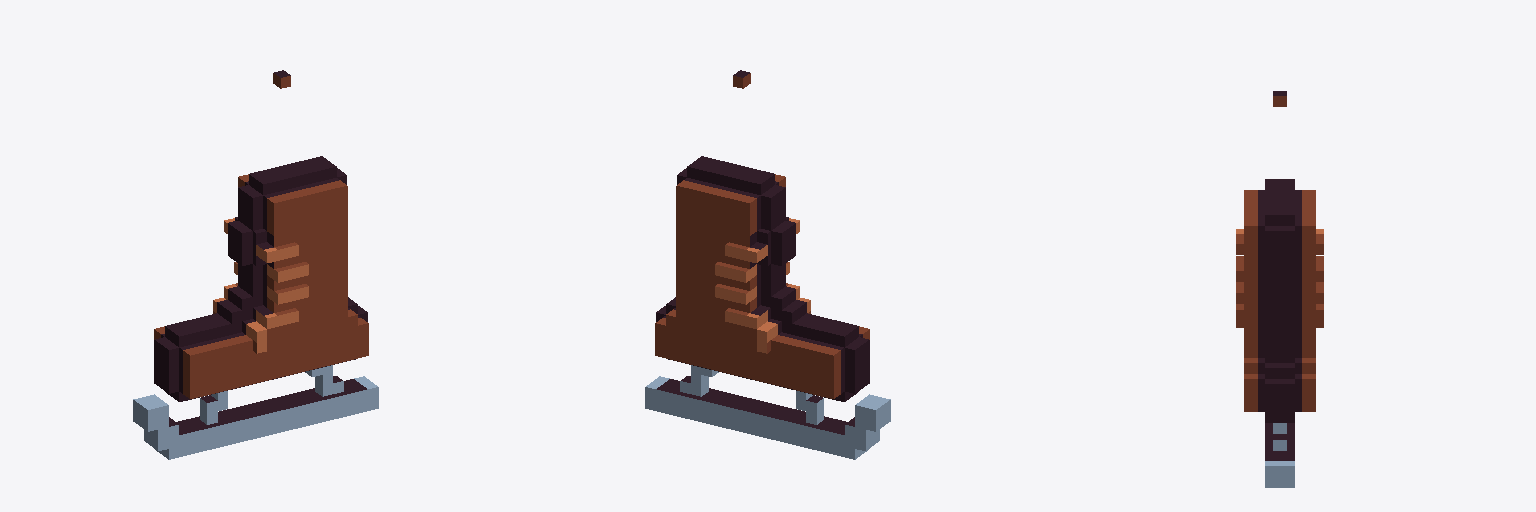
3 views of the same model, side by side, from view 1: azimuth 30°, elevation 25°; view 2: azimuth 150°, elevation 25°; view 3: azimuth 270°, elevation 25° (orthographic).
Bounding box in the file's own units: 22 × 32 × 7.2.
Materials: 1 (1 with a texture image).